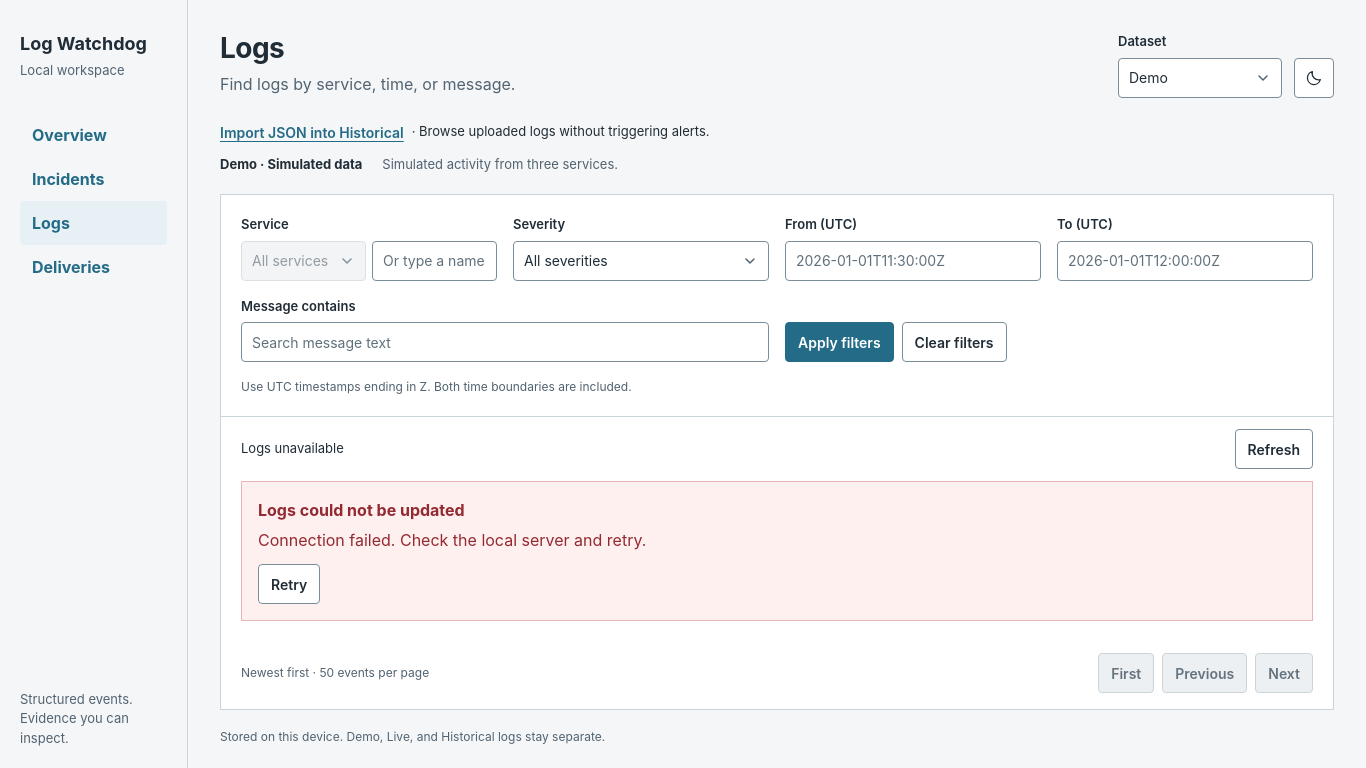
Test case: log explorer › explains empty results and recovers from a failed initial request
The width and height of the screenshot is (1366, 768).
Expected: the message that starts with "Logs could not be updated" shows "Connection failed", [258,530,646,550]
Click the button "Retry". click: (289, 584)
box: [258,564,320,604]
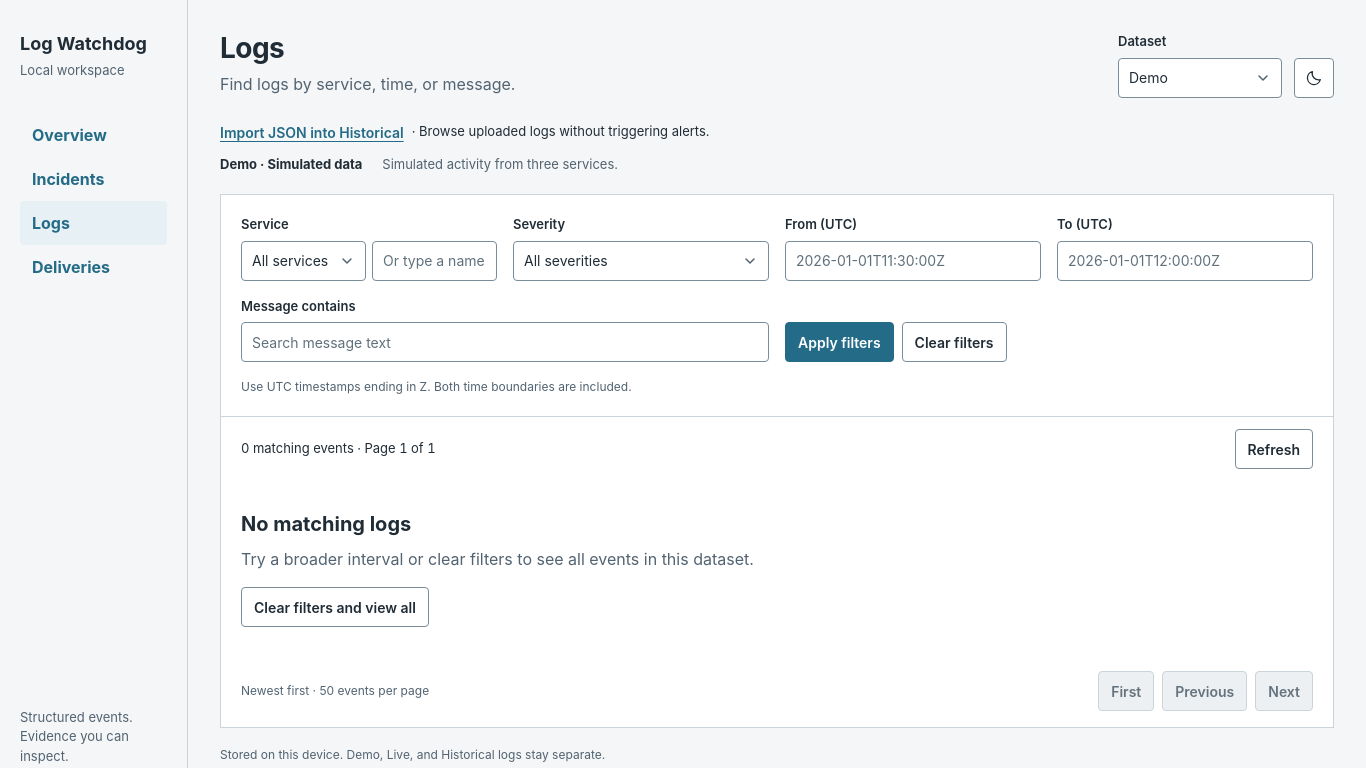
Expected: the button "Clear filters and view all" is enabled, [241,587,429,627]
Now the heading "No matching logs" is shown, box [241,512,411,536]
